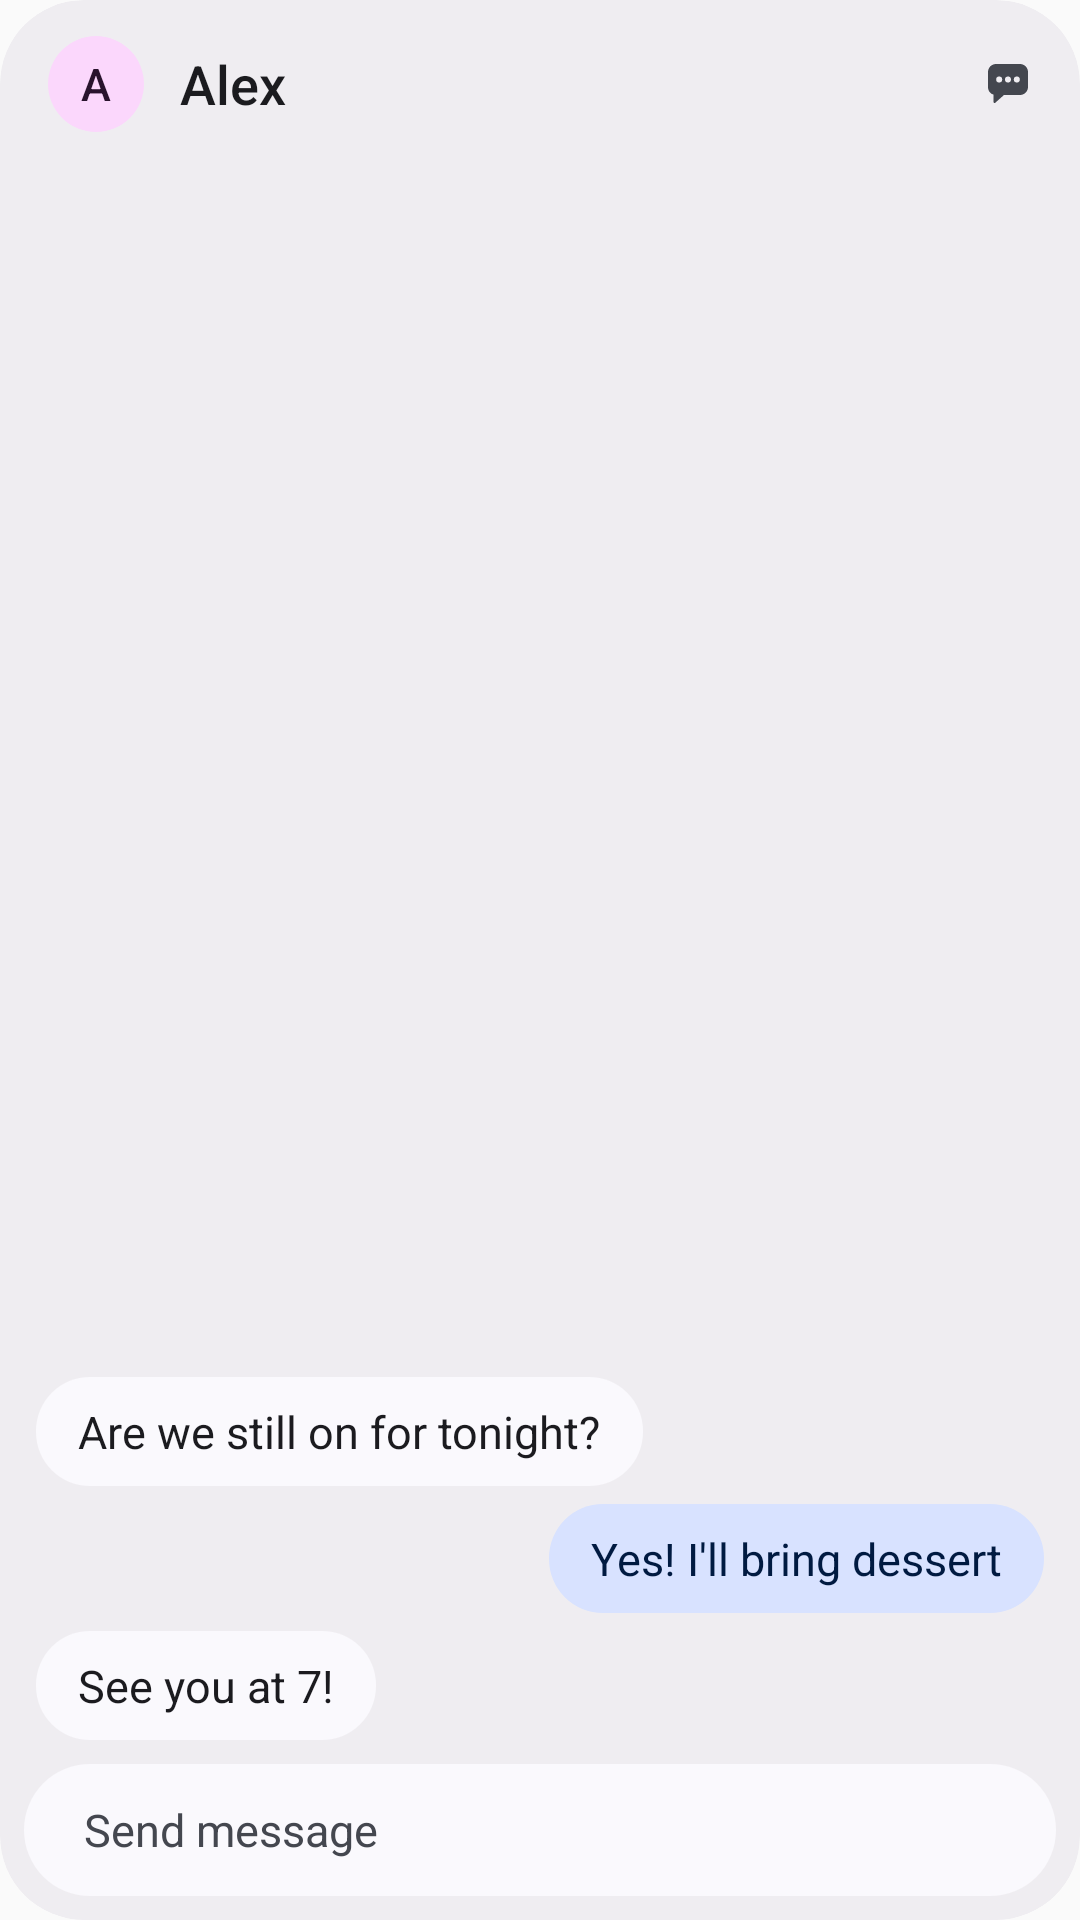

Screen size 1080px x 1920px. Icon name, then its center in pixels as (x,y):
notification sms: (1008,83)
